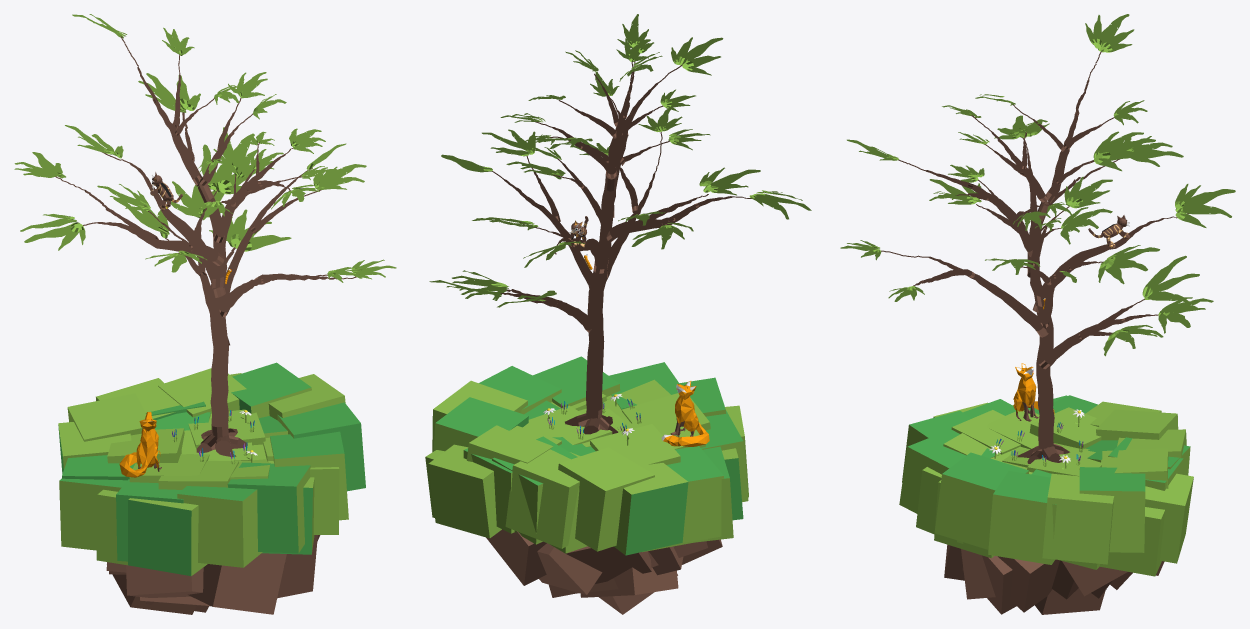
Rendered from Cat.glb.
The picture shows the model from 3 angles, left to right: view 1: azimuth 30°, elevation 25°; view 2: azimuth 150°, elevation 25°; view 3: azimuth 270°, elevation 25°; orthographic projection. The views are drawn at different scales.
Parts seen in each view (by area): view 1: Node; view 2: Node; view 3: Node.
Boxes of the visible parts, x1,y1,x2,y2 form: Node: [14, 14, 396, 614]; Node: [425, 14, 811, 614]; Node: [840, 14, 1235, 614].
Size of the model in its own units: 3.63 by 5.84 by 3.79.
